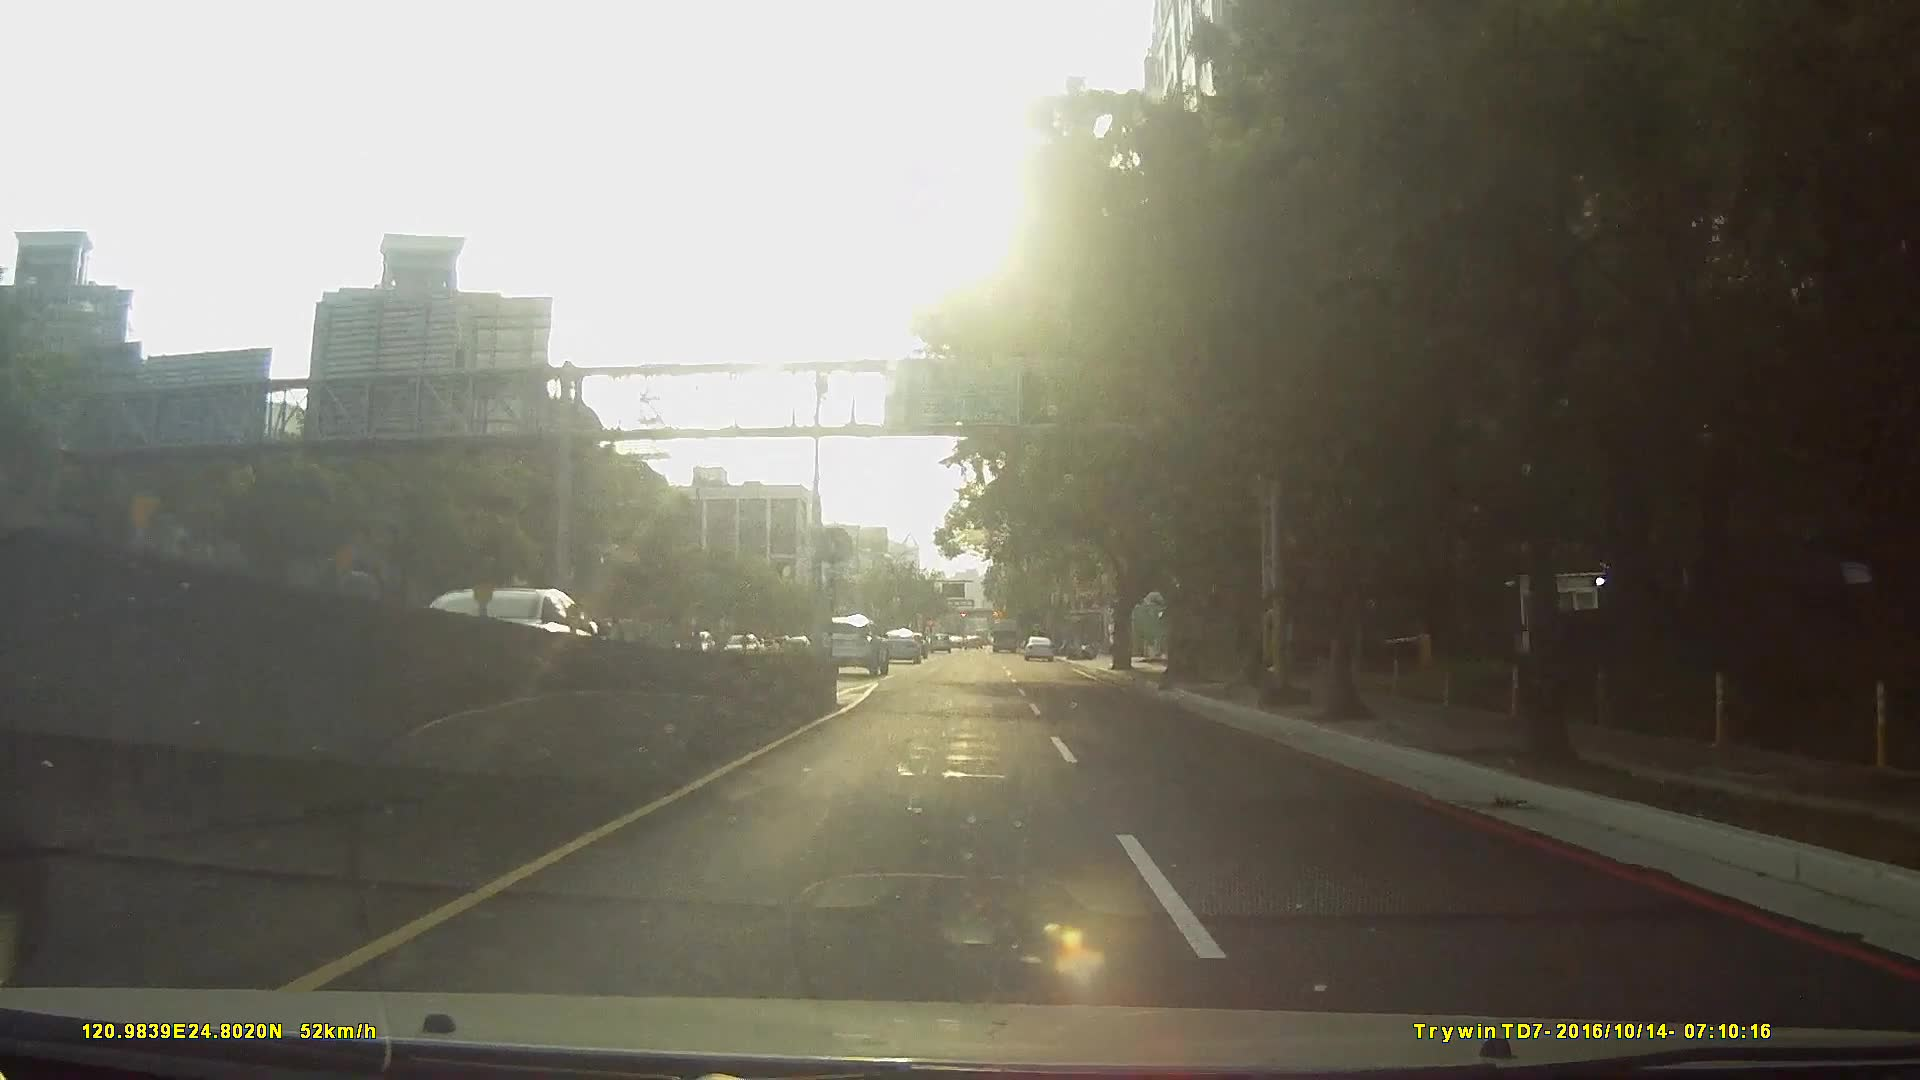vehicle: (820, 611, 890, 673), (880, 628, 924, 665), (988, 616, 1021, 651), (1021, 634, 1055, 661)
